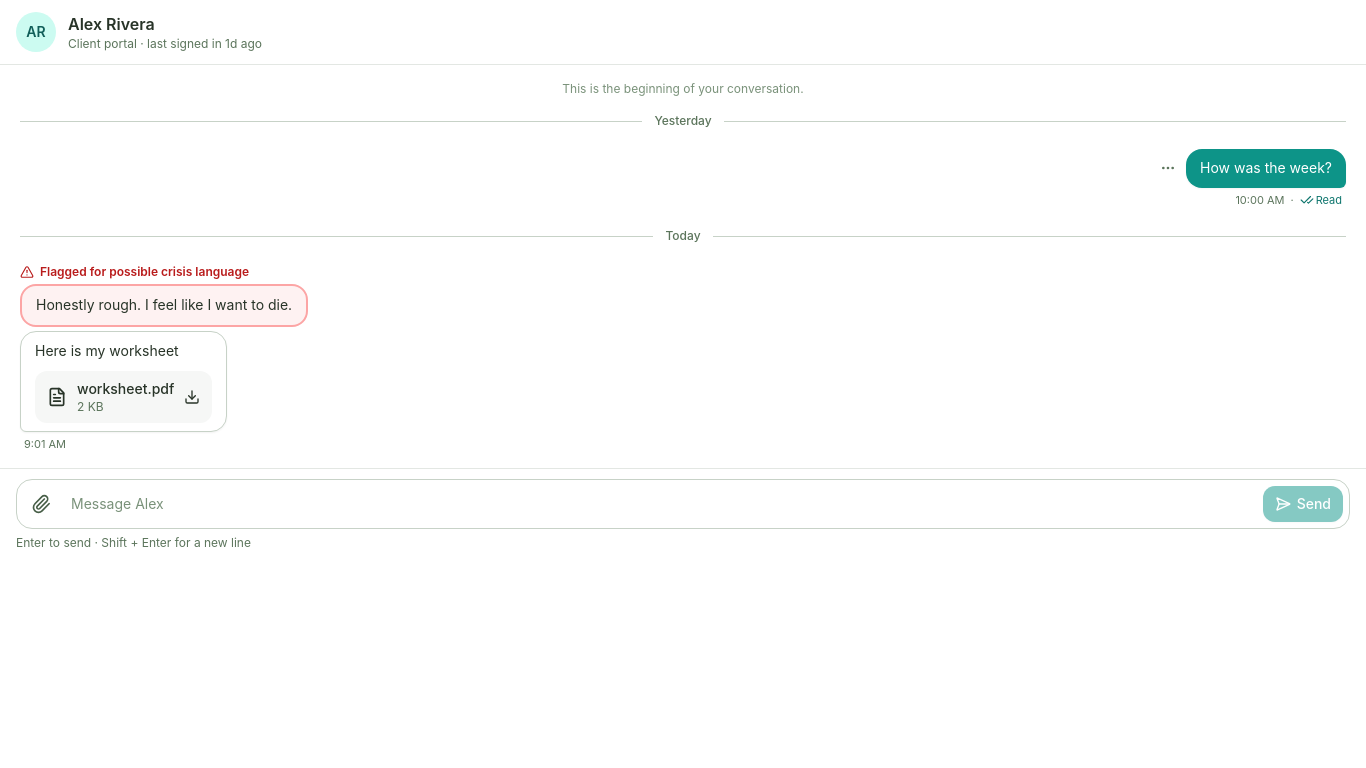
Scenario: ConversationThread › removes your own message after confirmation
Expected: the text "How was the week?" is shown, [1200, 157, 1332, 180]
Click the button named "Message options" at x=1168, y=168, box [1154, 154, 1182, 182]
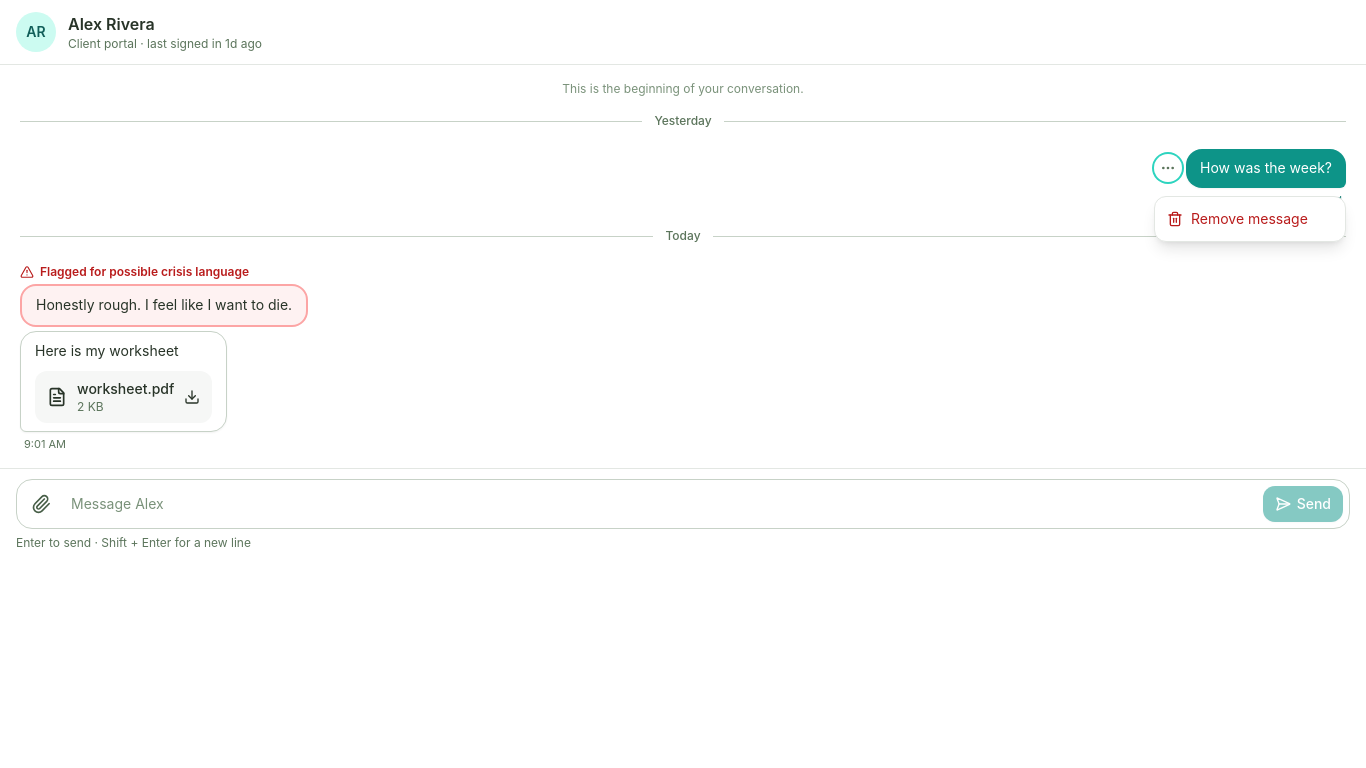
Click the menu item "Remove message" at x=1250, y=219, box [1155, 201, 1345, 237]
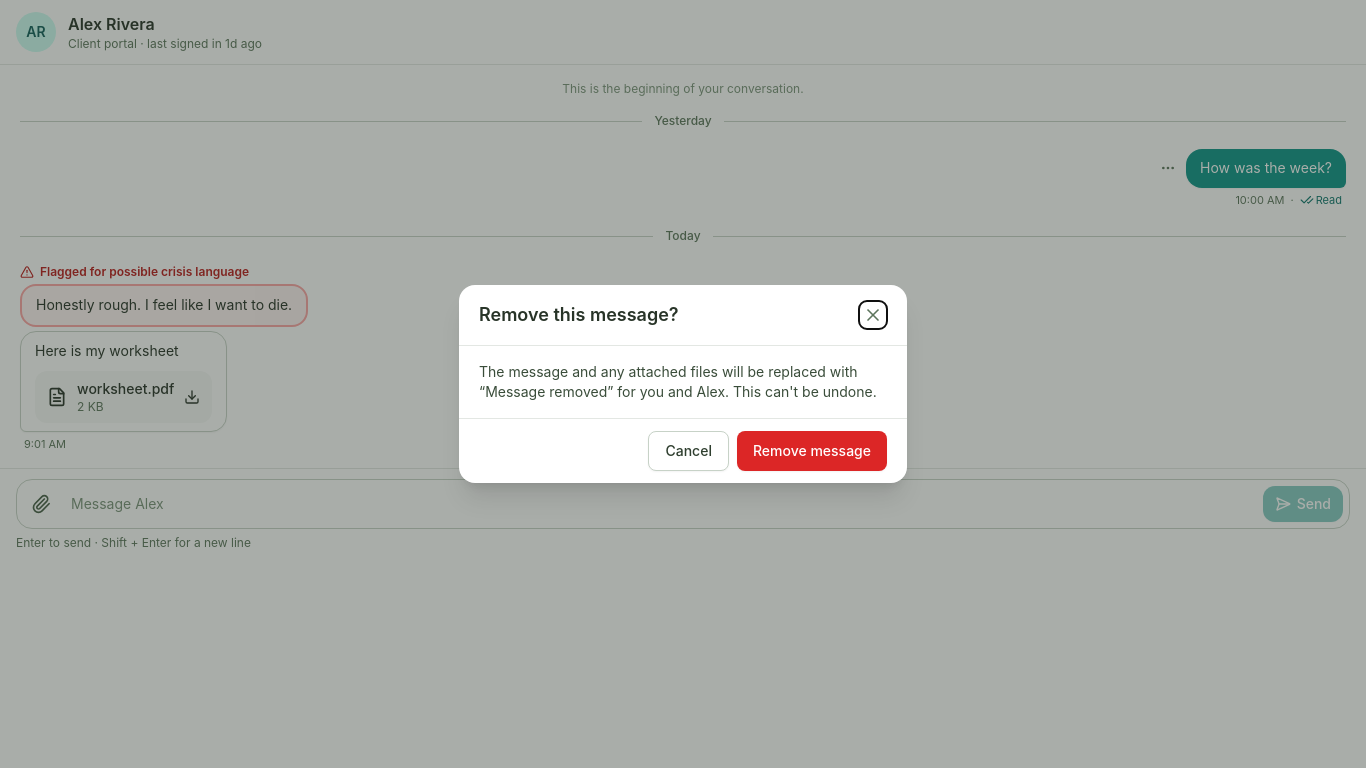
Click the button "Remove message" at x=812, y=451, box [737, 431, 887, 471]
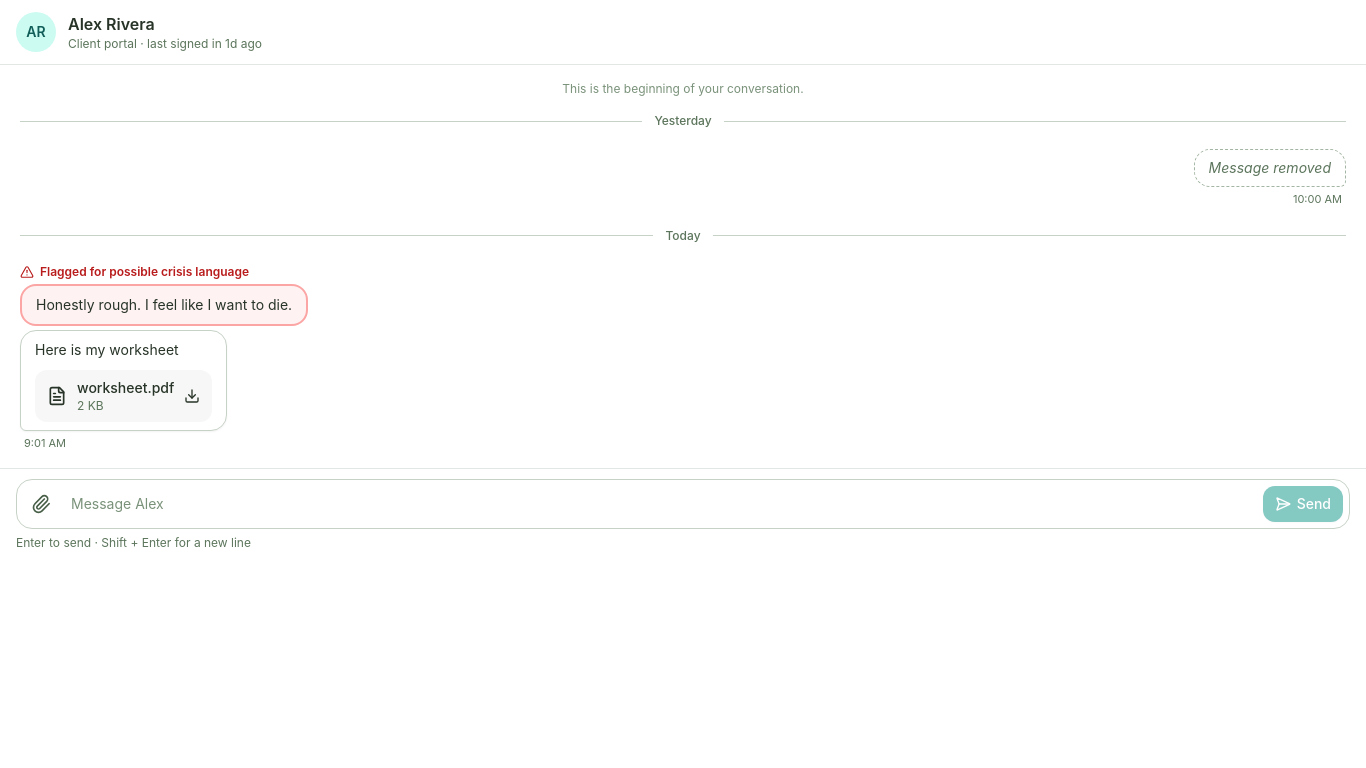
Expected: the text "Message removed" is shown, [1209, 158, 1331, 178]
Expected: the text "How was the week?" is gone
